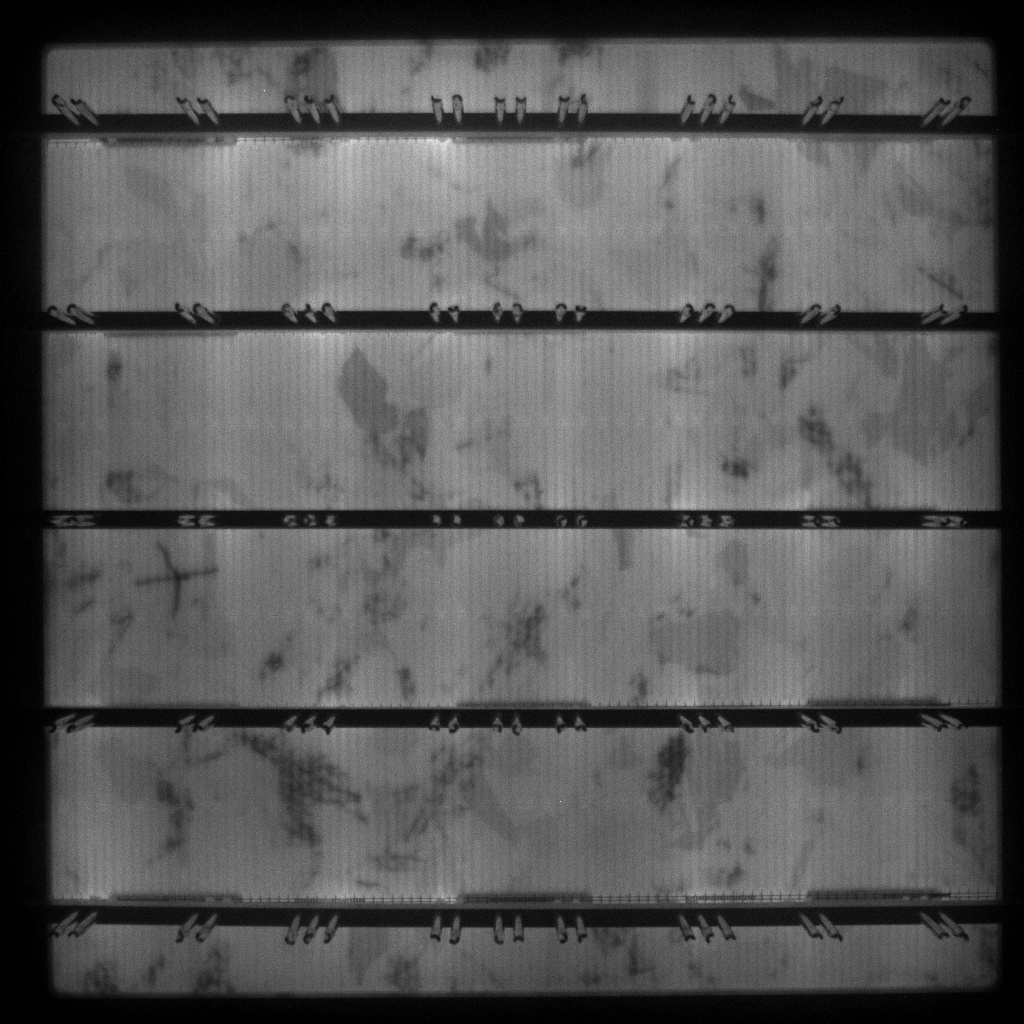crack: (137, 541, 220, 622)
